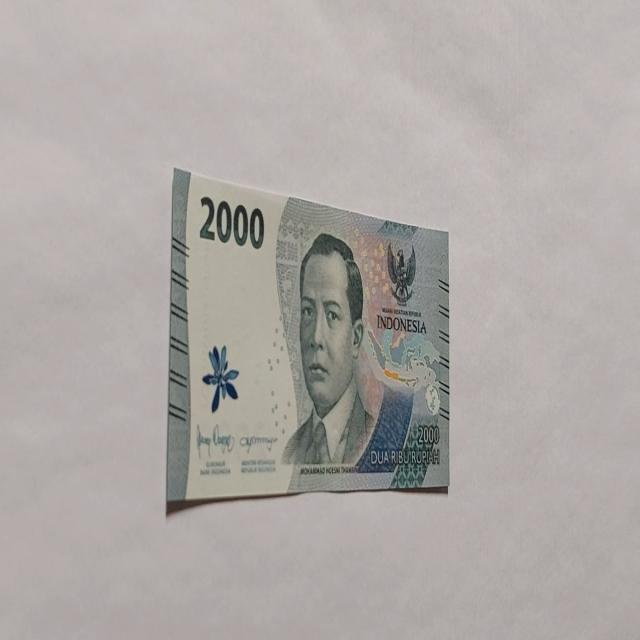dua ribu rupiah: (166, 166, 451, 513), (280, 231, 377, 484)
